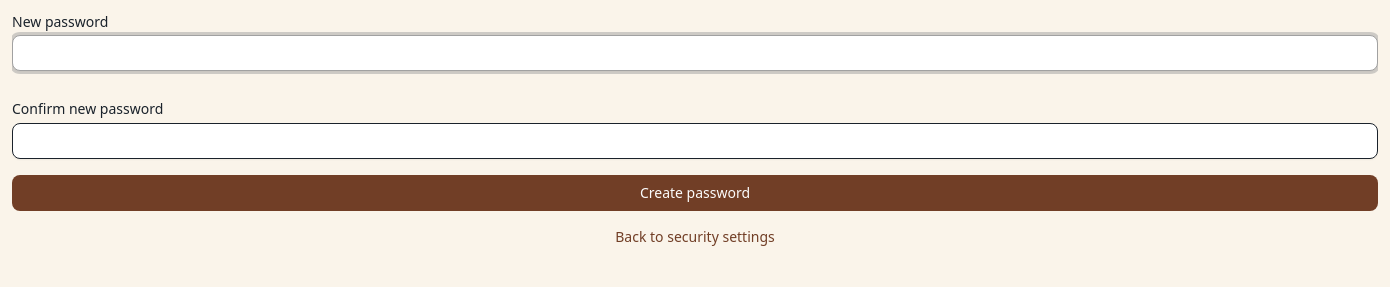
Test: CreatePasswordForm › should show error when password is too short
Type "Short1!" into the password field named "newPassword" at x=695, y=53, box x1=12 y1=35 x2=1378 y2=71
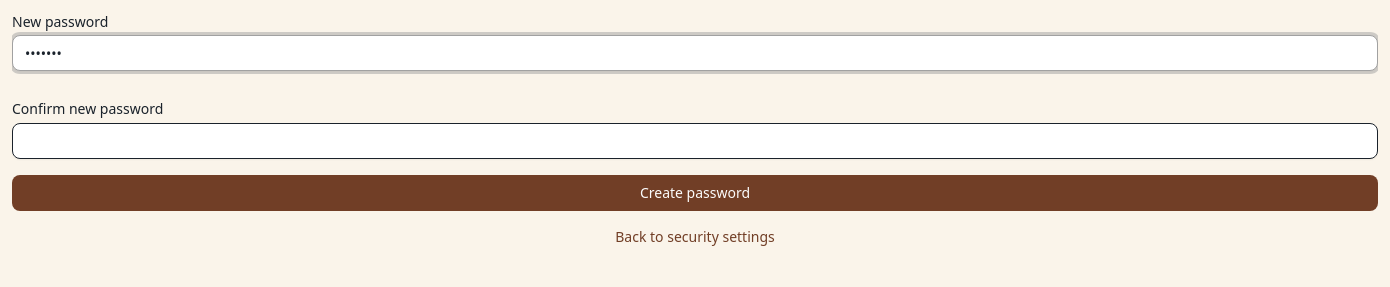
Type "Short1!" into the password field named "confirmPassword" at x=695, y=141, box x1=12 y1=123 x2=1378 y2=159
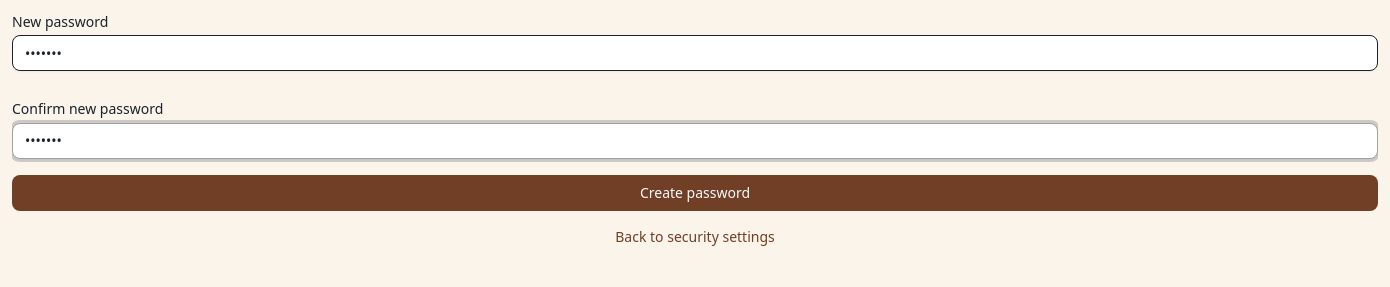
Click the submit button at x=695, y=193, box x1=12 y1=175 x2=1378 y2=211
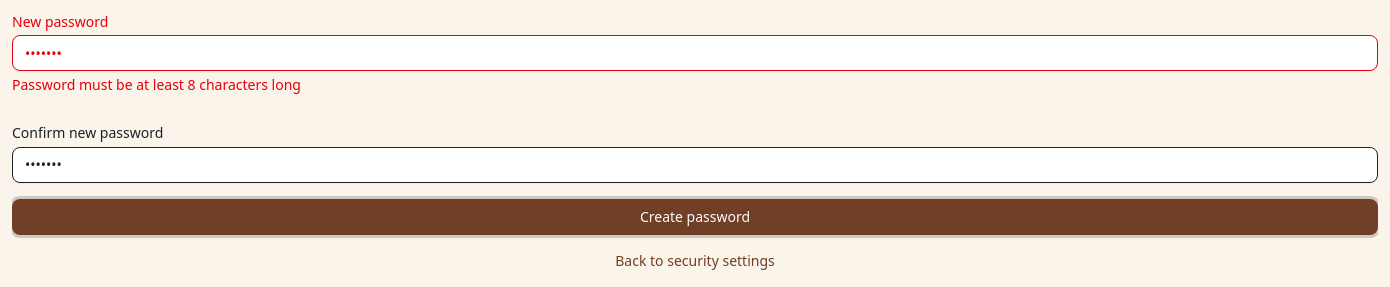
expect the message with test id "error-message-newPassword" reads "Password must be at least 8 characters long": met, box x1=12 y1=75 x2=301 y2=94
